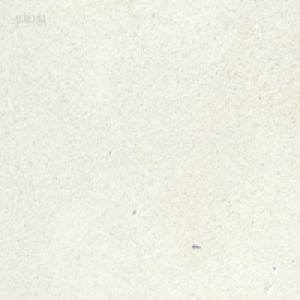Nail: (192, 243, 200, 249)
